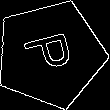P_E: (20, 29, 80, 79)
